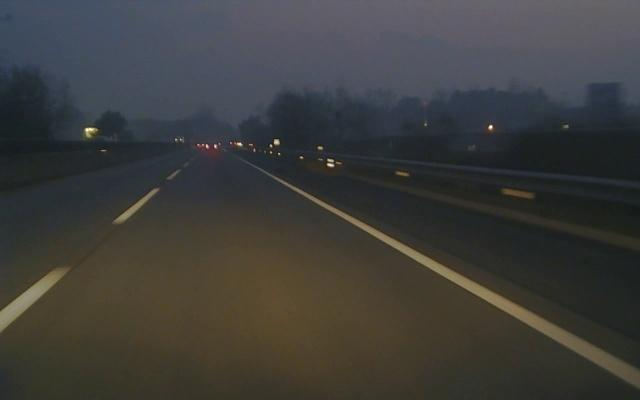lane: (258, 168, 640, 391), (0, 168, 181, 332)
